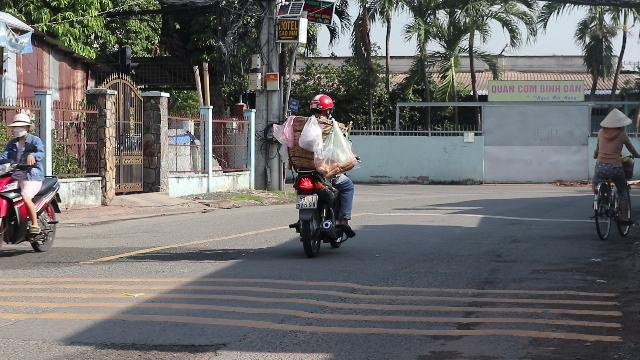helmet: (599, 108, 631, 132), (308, 94, 334, 120)
licenseplate: (297, 194, 317, 208)
motorcyclist: (284, 92, 360, 256), (0, 112, 64, 261)
nohelmet: (8, 112, 32, 138)
